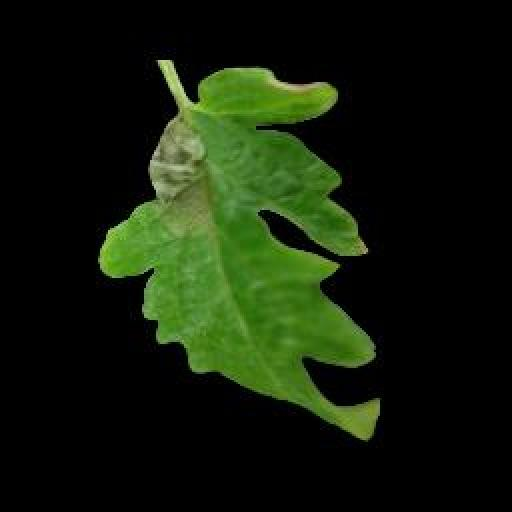disease_tomato: (99, 66, 384, 442)
